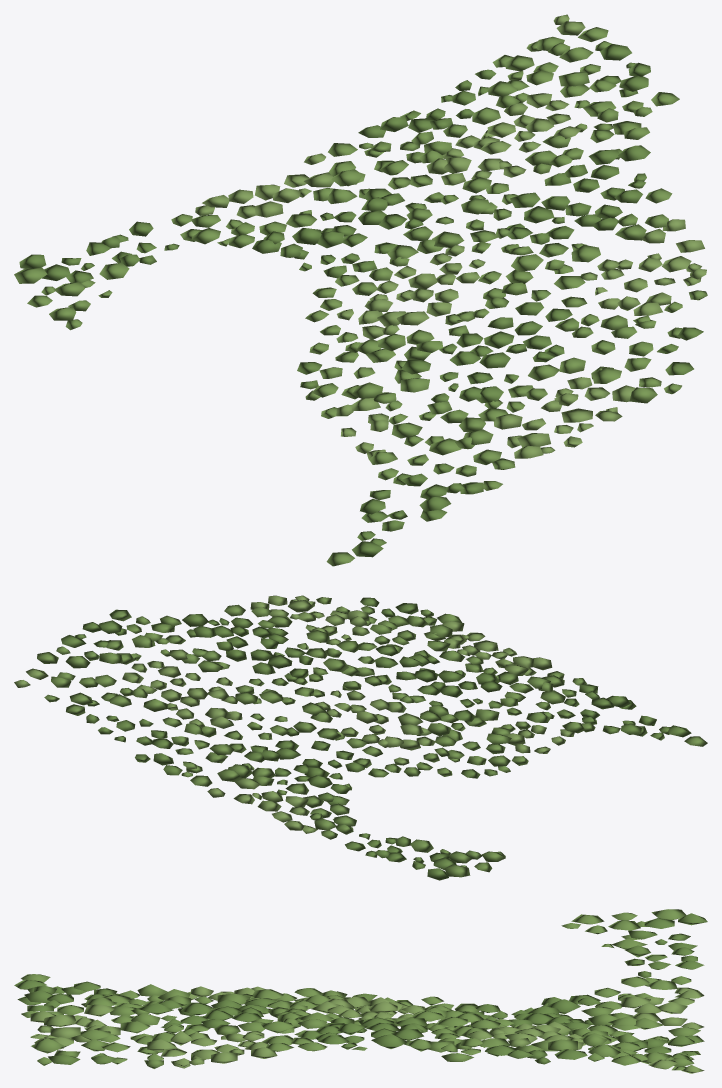
File: canopy-1-5-0.glb
3 views of the same model, one above another, from view 1: azimuth 30°, elevation 25°; view 2: azimuth 150°, elevation 25°; view 3: azimuth 270°, elevation 25° (orthographic). The views are drawn at different scales.
Bounding box in the file's own units: 518 × 168 × 520.
Materials: 1 (1 with a texture image).
